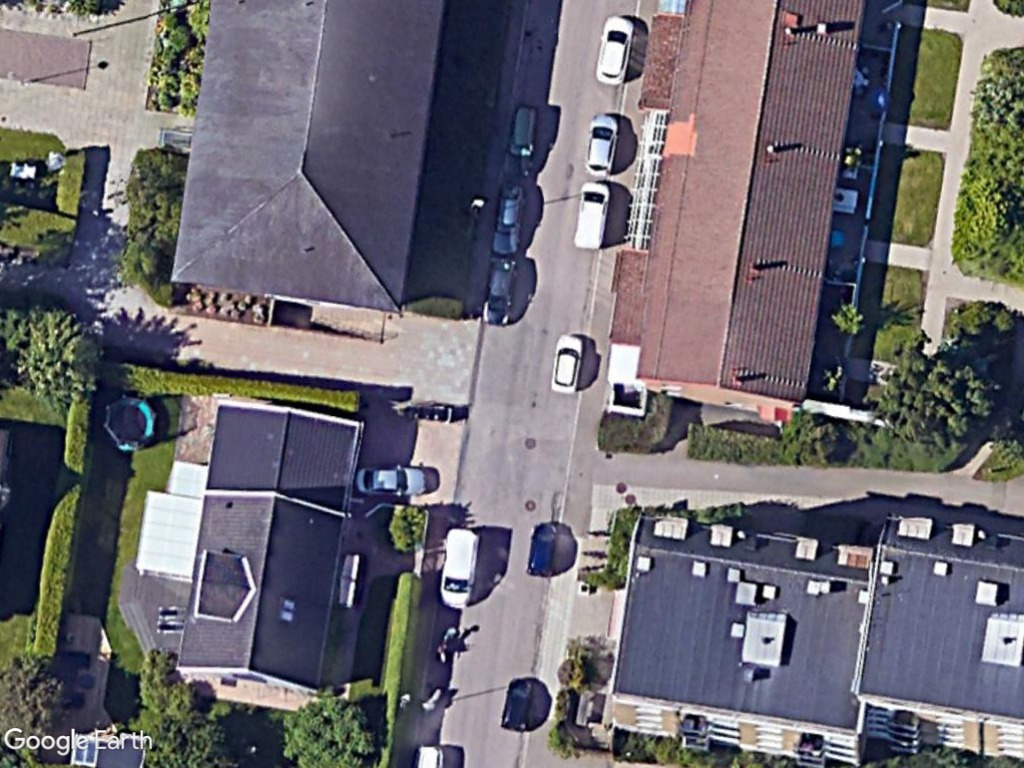car: (591, 13, 640, 88), (487, 180, 530, 261), (501, 100, 542, 180), (480, 253, 520, 327), (353, 464, 434, 499), (547, 329, 588, 395), (584, 109, 622, 179)
van: (434, 523, 483, 609), (570, 175, 615, 251)
